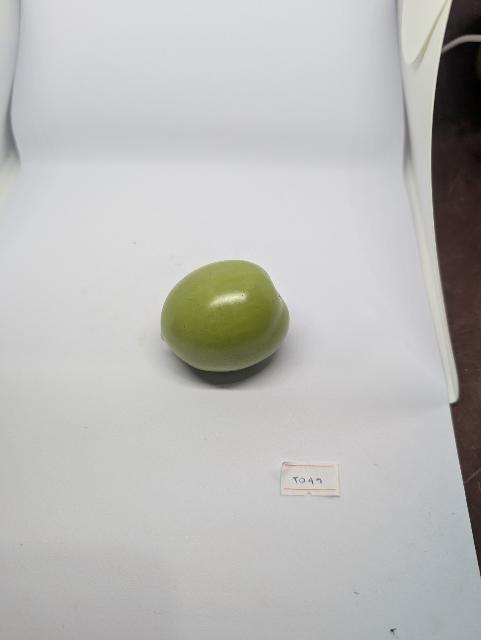green: (148, 249, 300, 382)
